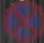No Stopping: (3, 2, 40, 42)
